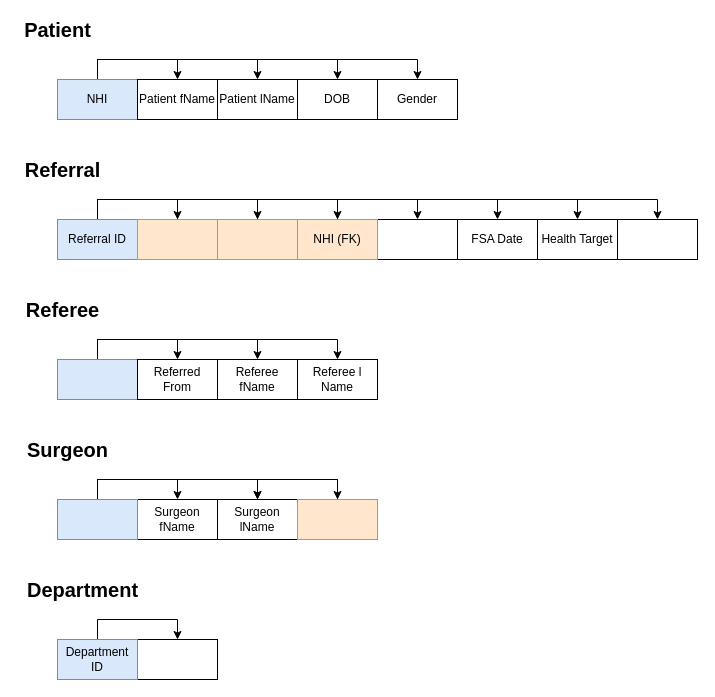
Some shapes in this 715 by 697 pixel diagram are drawn without their labels. Here are the shapes that lost their labels. From the top down, the centre of each, then its label:
At [177,239]: "Surgeon ID (FK)".
At [257,239]: "Referee ID (FK)".
At [417,239]: "Referral Date".
At [657,239]: "Waitlist Date".
At [97,379]: "Referee ID".
At [97,519]: "Surgeon ID".
At [337,519]: "Department (FK)".
At [177,659]: "Department Name".
